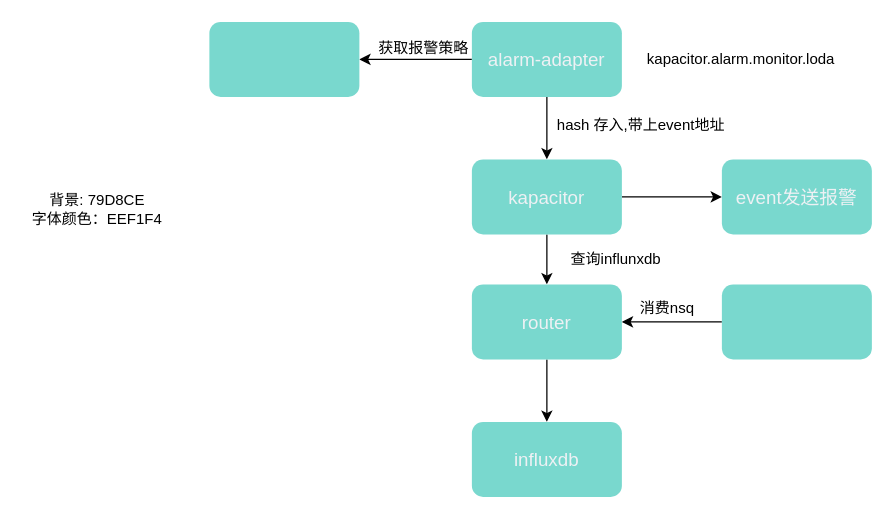
The diagram is 893 pixels wide and 518 high, and some of its shapes have lost their labels. Here are the shapes that lost their labels. From the top down, the box of each, then its label:
(209, 21, 359, 96): registry
(721, 284, 871, 359): nsq
